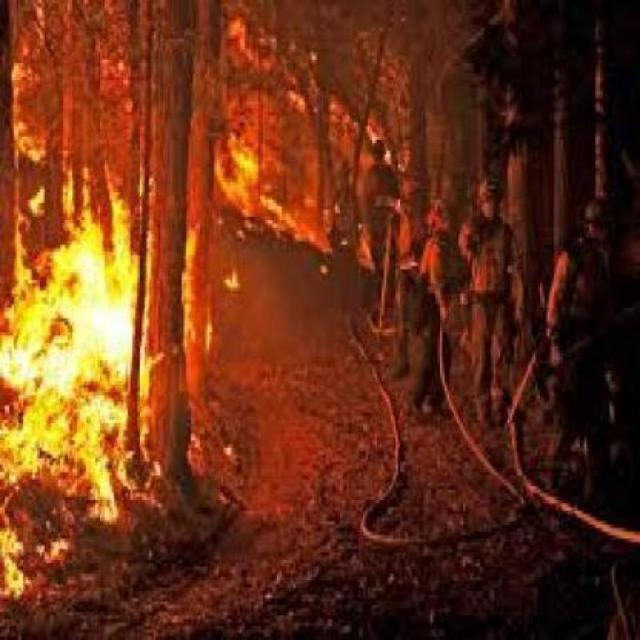Fire: (0, 23, 180, 623), (216, 43, 457, 274)
